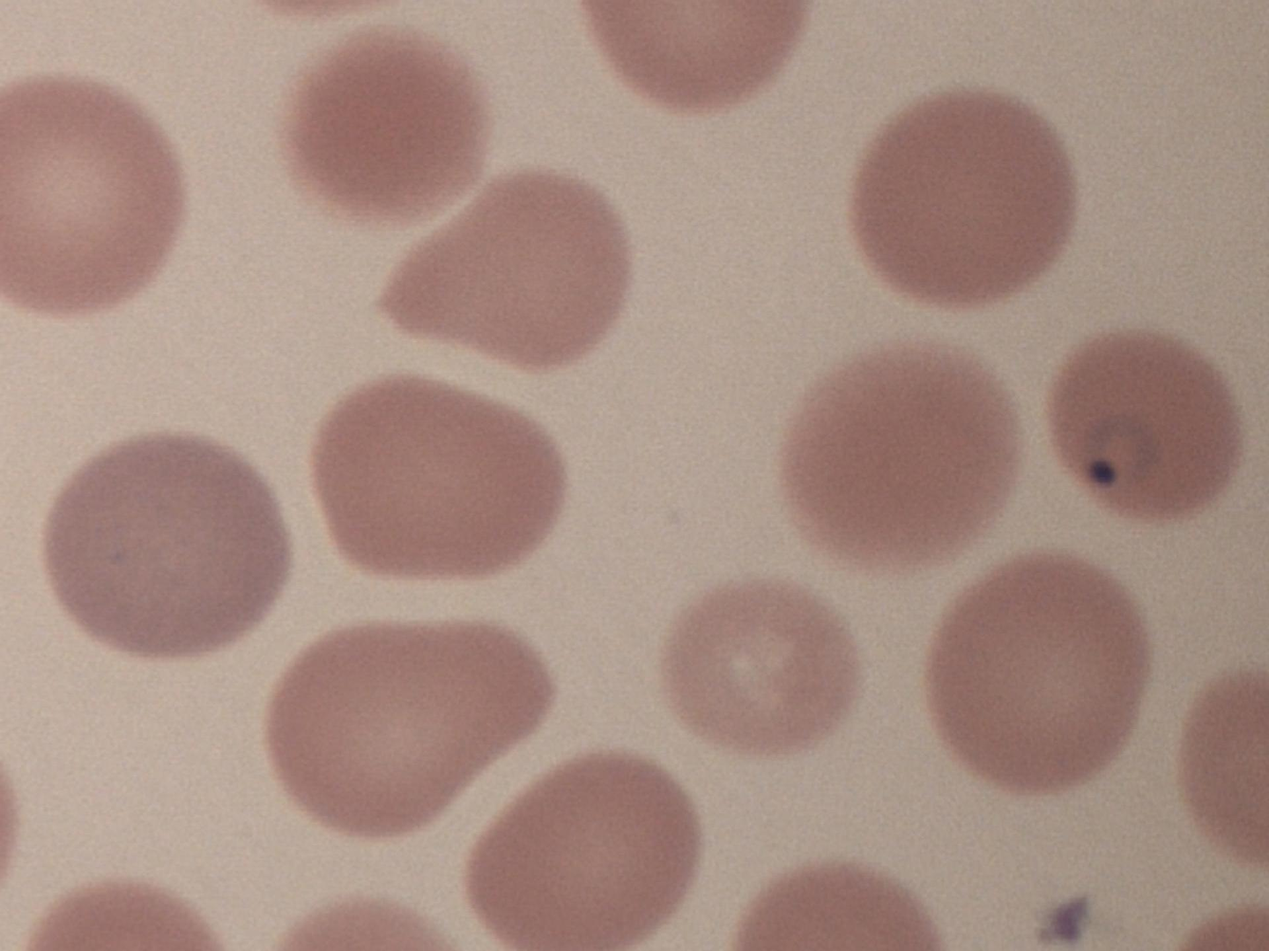Infected: (1049, 326, 1246, 520)
Uninfected: (268, 618, 557, 839), (783, 341, 1024, 567), (46, 433, 290, 655), (929, 552, 1152, 788), (314, 379, 562, 581), (851, 90, 1081, 302), (385, 169, 629, 367), (471, 750, 703, 951), (0, 71, 182, 315), (281, 27, 484, 220), (661, 575, 861, 751)
